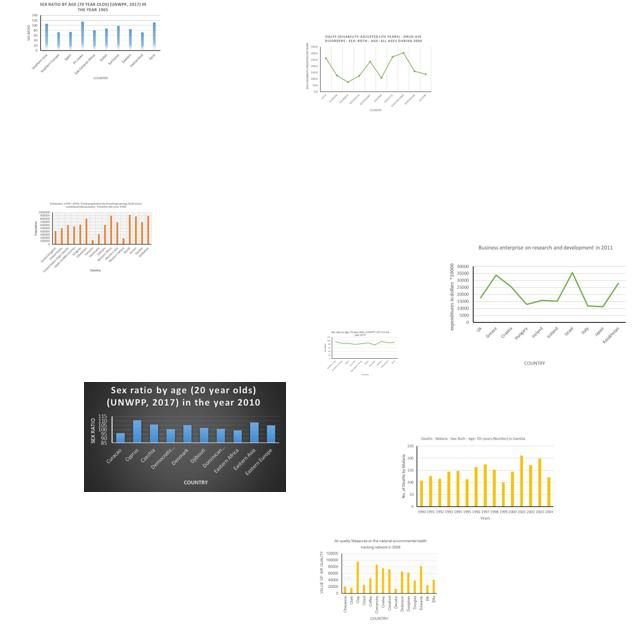Graph: (444, 239, 630, 367), (84, 382, 286, 492), (398, 433, 557, 522), (23, 0, 162, 81), (316, 537, 439, 623), (304, 33, 433, 114), (32, 200, 153, 273), (322, 330, 399, 376)
